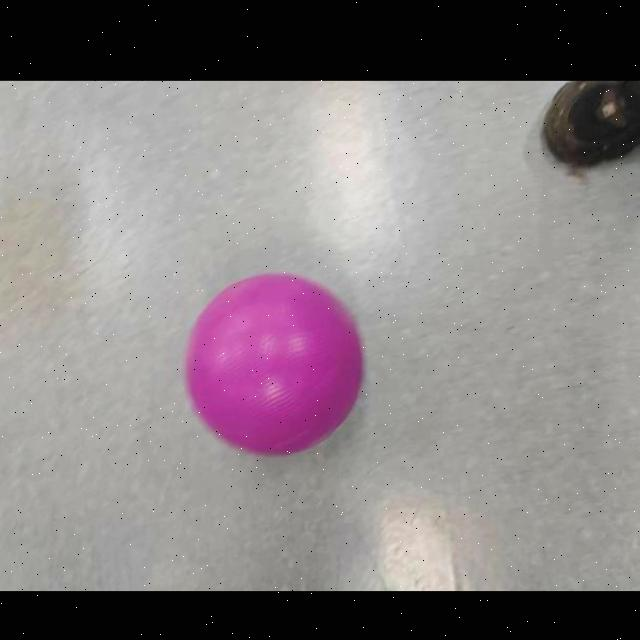P: (174, 272, 366, 458)
